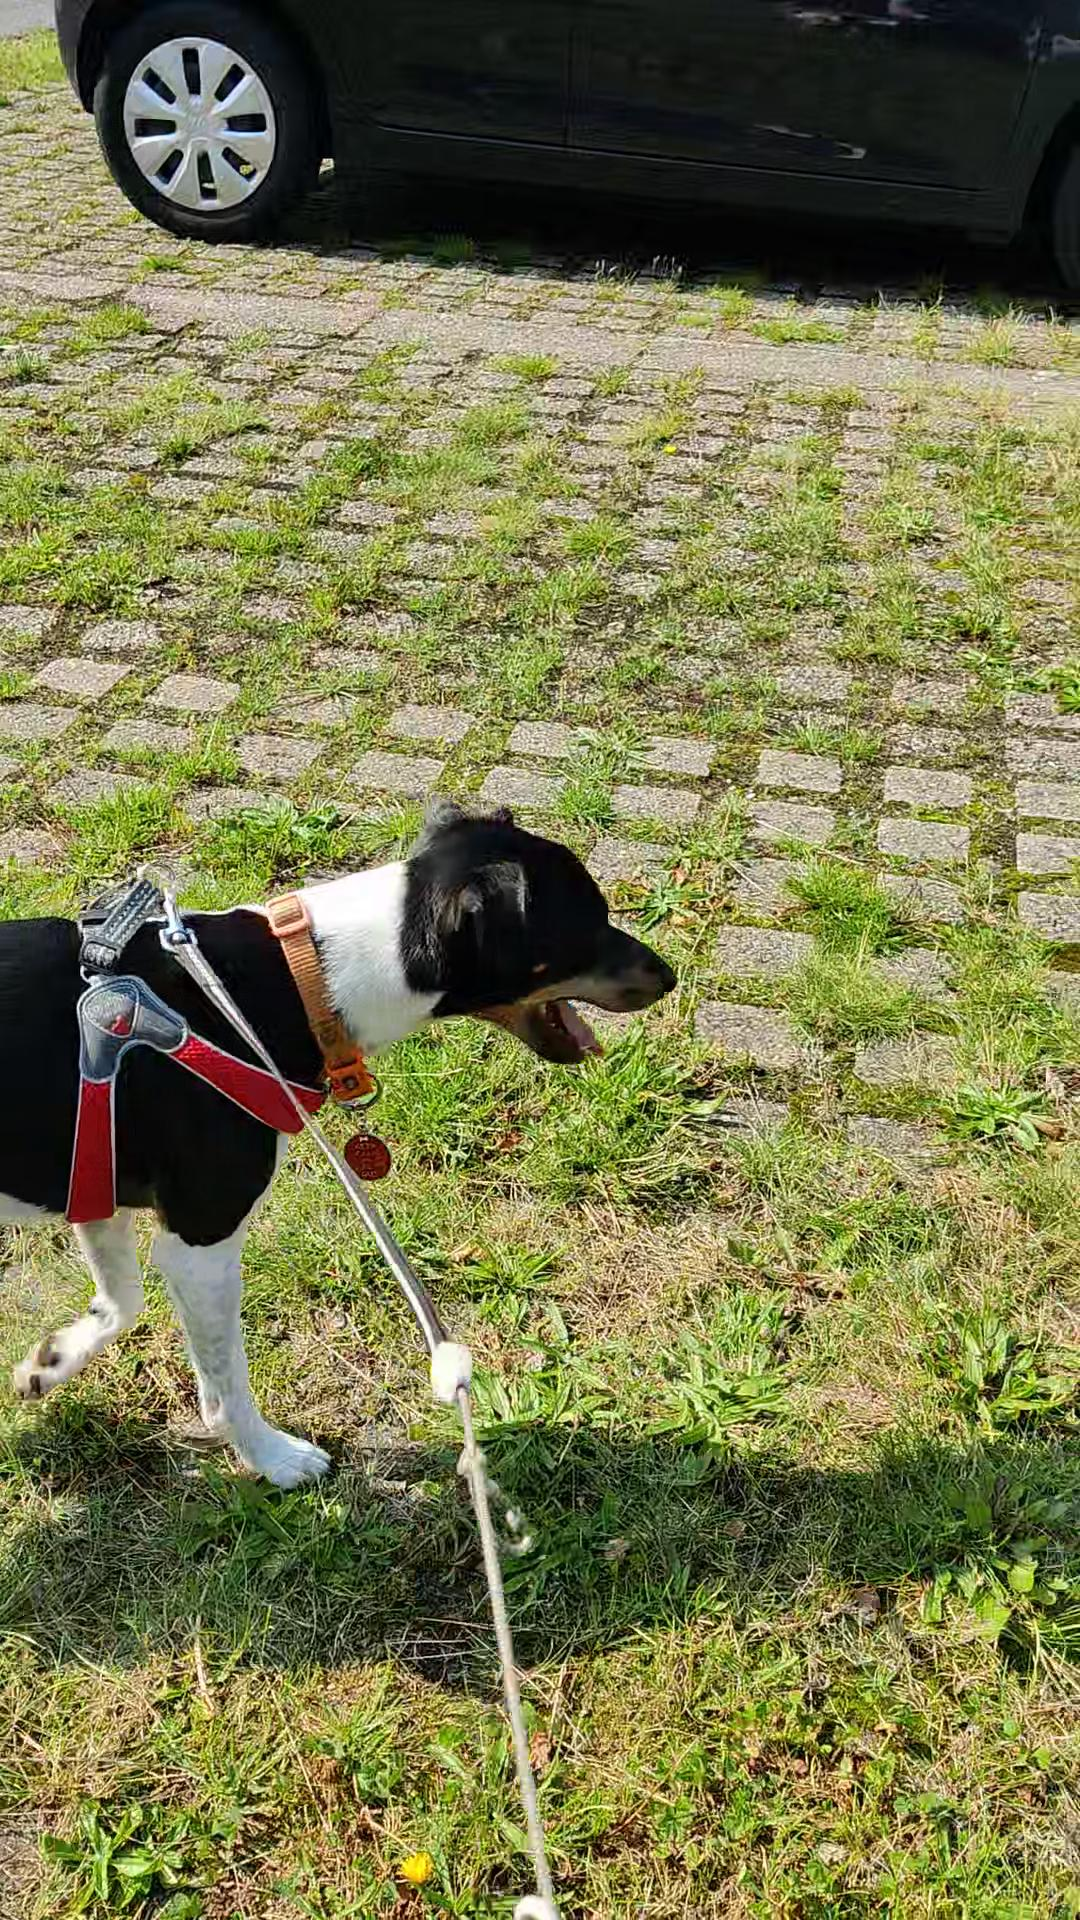Dog: (0, 798, 688, 1491)
